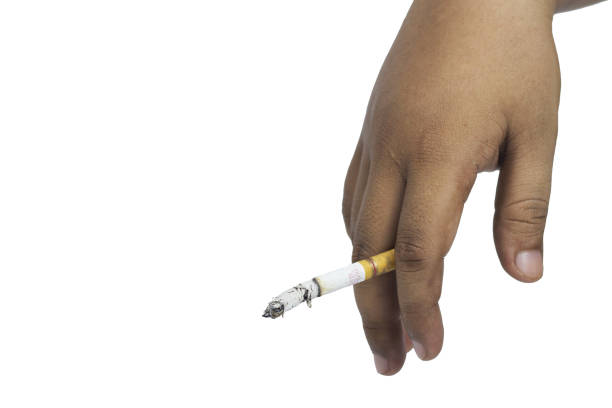cigarette: (259, 247, 393, 325)
